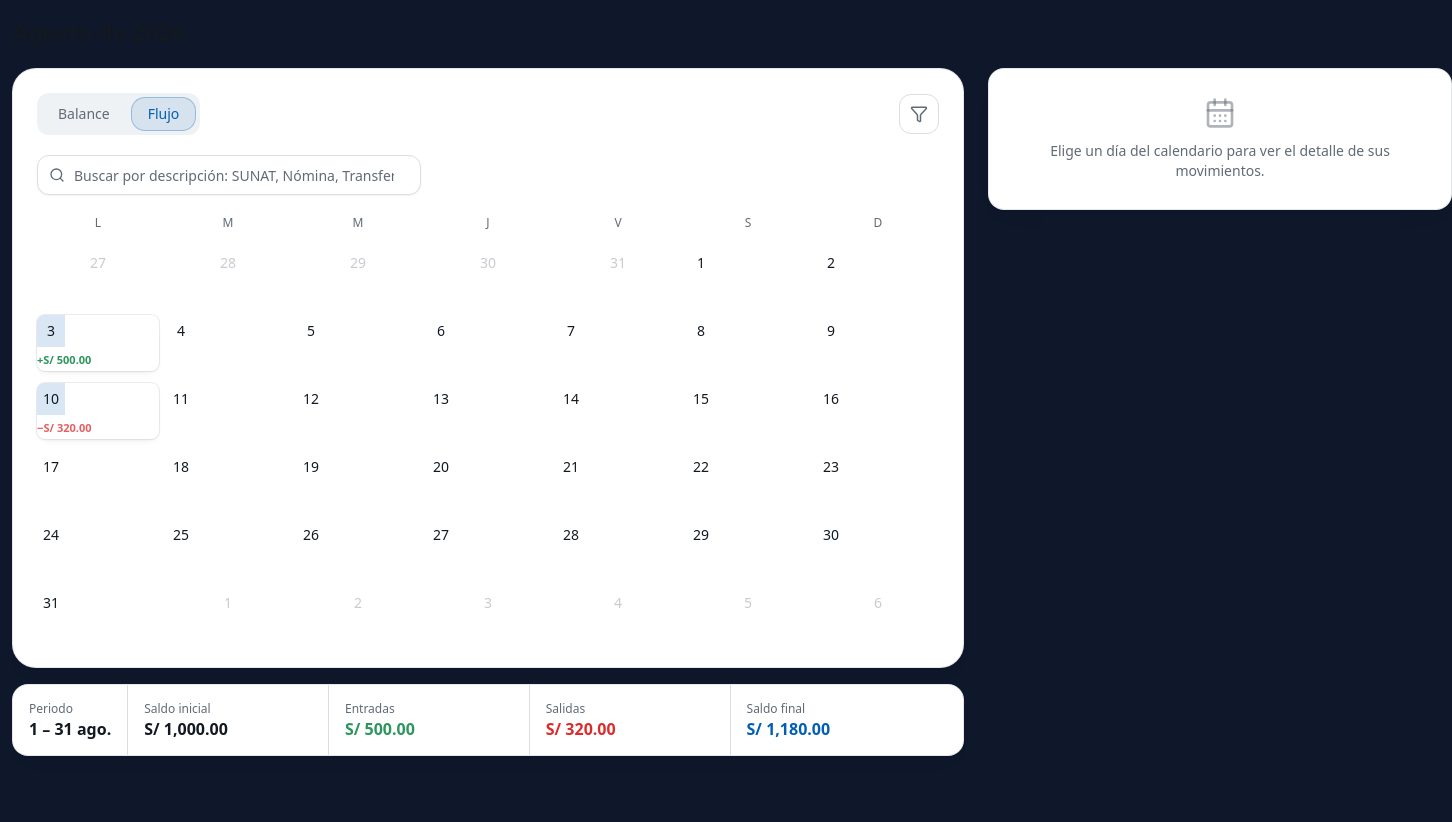
it: FinancialCalendarView: buscador › pinta en Flujo solo lo encontrado, atenúa los demás días y dice cuánto suma
Step 1. Type "sunat" into the search field → (229, 175), box [37,155,421,195]
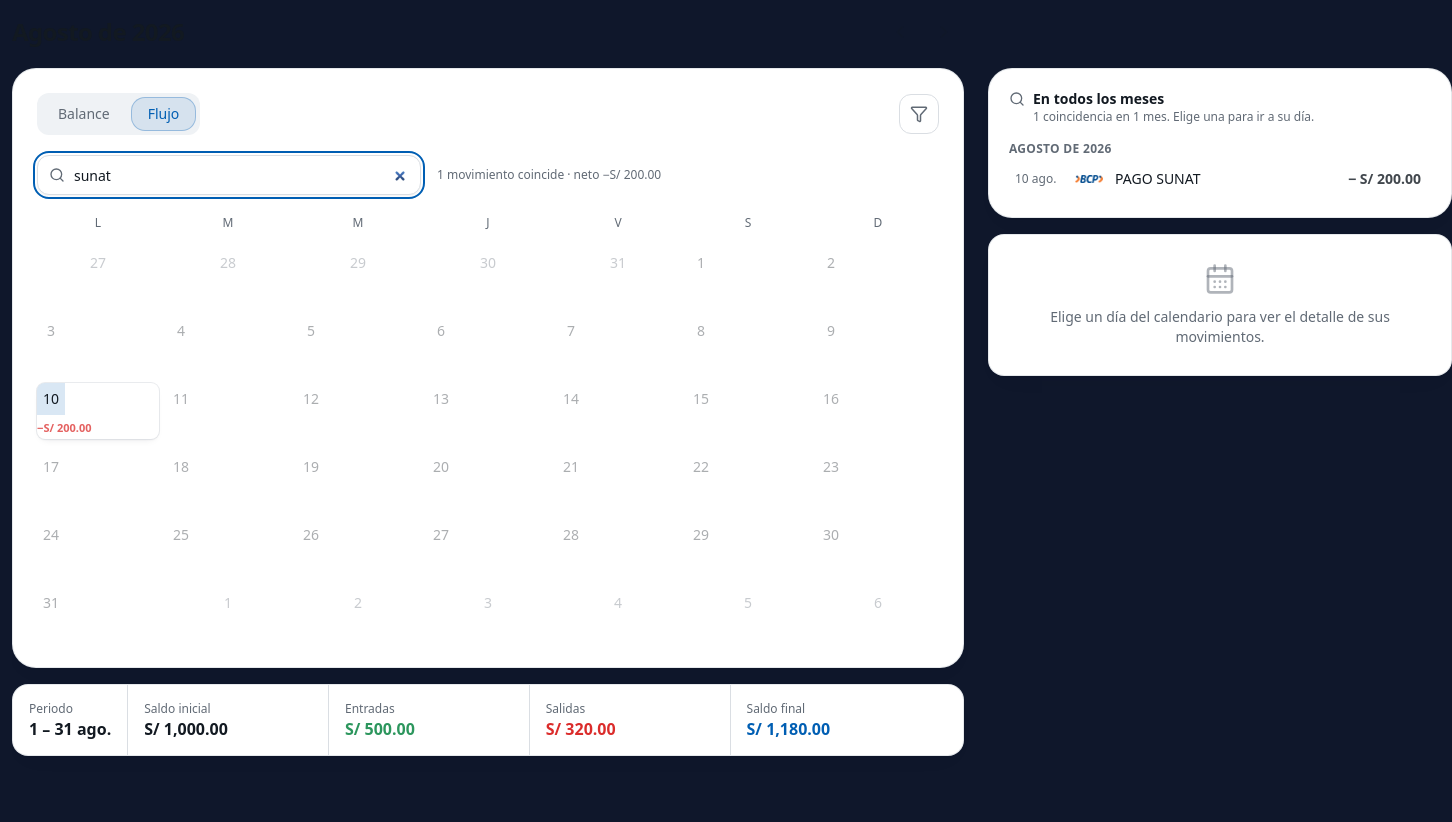
expect the text "S/ 1,180.00" is shown: met, box [746,718,830,740]
expect the text "1 movimiento coincide · neto −S/ 200.00" is shown: met, box [437,167,661,183]
